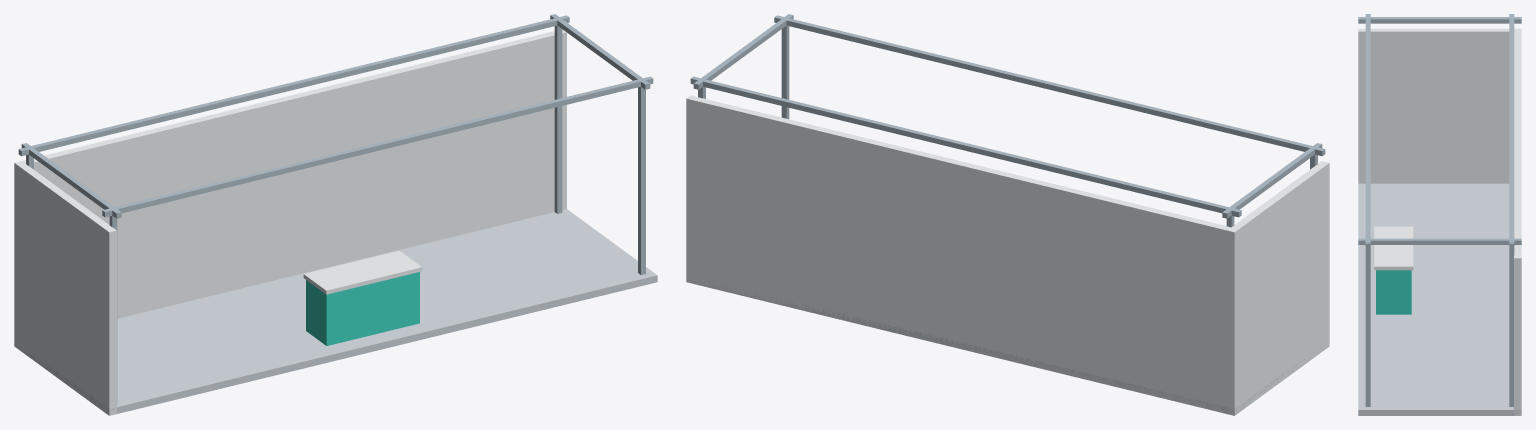
The picture shows the model from 3 angles, left to right: view 1: azimuth 30°, elevation 25°; view 2: azimuth 150°, elevation 25°; view 3: azimuth 270°, elevation 25°; orthographic projection. The views are drawn at different scales.
Visible parts, largest first — view 1: Exhibition Booth Concept; view 2: Exhibition Booth Concept; view 3: Exhibition Booth Concept.
Part boxes in pixels (x1,y1,x2,y2): Exhibition Booth Concept: (14, 14, 657, 415); Exhibition Booth Concept: (686, 14, 1329, 415); Exhibition Booth Concept: (1358, 14, 1521, 415).
Size of the model in its own units: 10 by 3.49 by 3.
